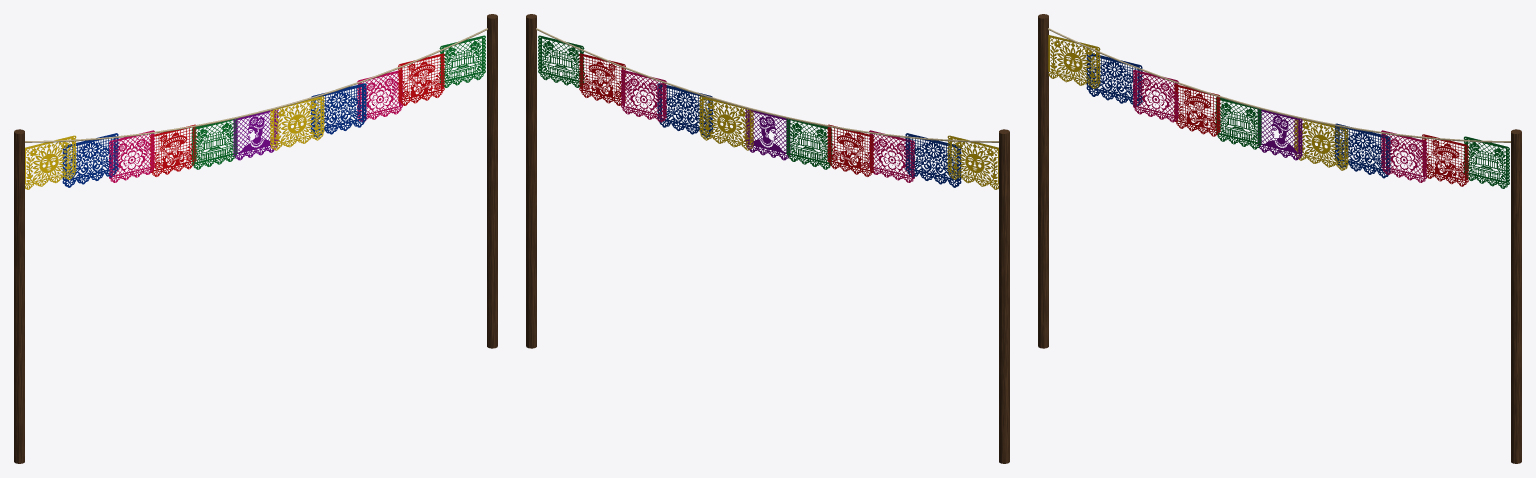
The model's file is papel_picado.obj.
3 renders of one model, left to right at view 1: azimuth 30°, elevation 25°; view 2: azimuth 150°, elevation 25°; view 3: azimuth 330°, elevation 25°, orthographic.
Parts seen in each view (by area): view 1: Poste, Poste.001, Papel_06, Papel_01, Papel_00, Papel_07, Papel_09, Papel_04, Papel_03, Papel_10, Papel_02, Papel_05 (+2 smaller); view 2: Poste, Poste.001, Papel_06, Papel_01, Papel_00, Papel_03, Papel_07, Papel_04, Papel_09, Papel_10, Papel_08, Papel_02 (+2 smaller); view 3: Poste.001, Poste, Papel_07, Papel_00, Papel_06, Papel_01, Papel_10, Papel_03, Papel_09, Papel_04, Papel_08, Papel_02 (+2 smaller).
Part boxes in pixels (bbox=[...]): Poste: bbox=[14, 129, 24, 463]; Poste.001: bbox=[487, 14, 497, 348]; Papel_06: bbox=[270, 96, 324, 150]; Papel_01: bbox=[62, 133, 118, 187]; Papel_00: bbox=[25, 135, 76, 189]; Papel_07: bbox=[310, 83, 366, 137]; Papel_09: bbox=[398, 53, 444, 105]; Papel_04: bbox=[191, 118, 237, 169]; Papel_03: bbox=[150, 124, 196, 176]; Papel_10: bbox=[439, 35, 485, 87]; Papel_02: bbox=[109, 130, 154, 182]; Papel_05: bbox=[233, 109, 278, 160]; Poste: bbox=[999, 129, 1009, 463]; Poste.001: bbox=[526, 14, 536, 348]; Papel_06: bbox=[699, 96, 753, 150]; Papel_01: bbox=[905, 133, 961, 187]; Papel_00: bbox=[947, 135, 998, 189]; Papel_03: bbox=[827, 124, 873, 176]; Papel_07: bbox=[657, 83, 713, 137]; Papel_04: bbox=[786, 118, 832, 169]; Papel_09: bbox=[579, 53, 625, 105]; Papel_10: bbox=[538, 35, 584, 87]; Papel_08: bbox=[621, 70, 666, 122]; Papel_02: bbox=[869, 130, 914, 182]; Poste.001: bbox=[1511, 129, 1521, 463]; Poste: bbox=[1038, 14, 1048, 348]; Papel_07: bbox=[1334, 123, 1390, 178]; Papel_00: bbox=[1048, 35, 1100, 88]; Papel_06: bbox=[1294, 119, 1348, 170]; Papel_01: bbox=[1086, 53, 1142, 106]; Papel_10: bbox=[1463, 136, 1509, 188]; Papel_03: bbox=[1174, 84, 1220, 136]; Papel_09: bbox=[1422, 134, 1468, 186]; Papel_04: bbox=[1215, 97, 1261, 149]; Papel_08: bbox=[1381, 130, 1426, 182]; Papel_02: bbox=[1133, 70, 1178, 122].
Bounding box in the file's own units: 4.9 × 3.2 × 0.1.
8 materials, 8 textured.
